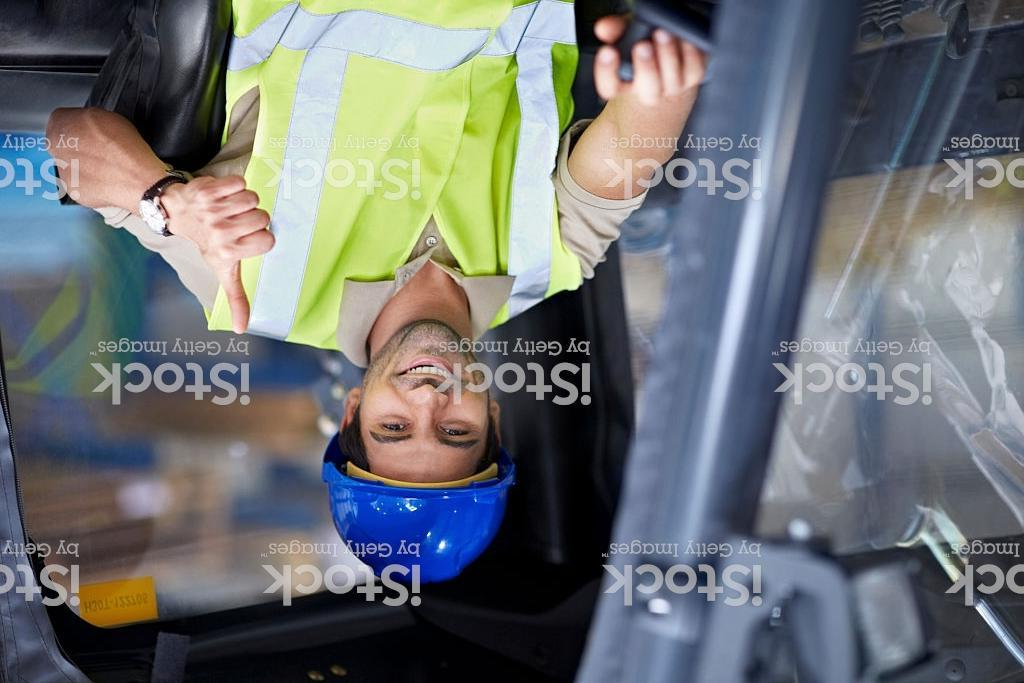thumbsdown: (194, 172, 278, 336)
